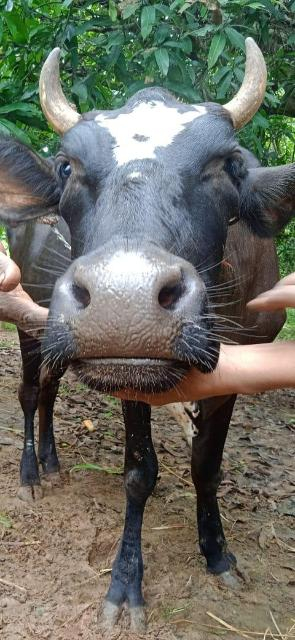Muzzle: (78, 256, 184, 354)
